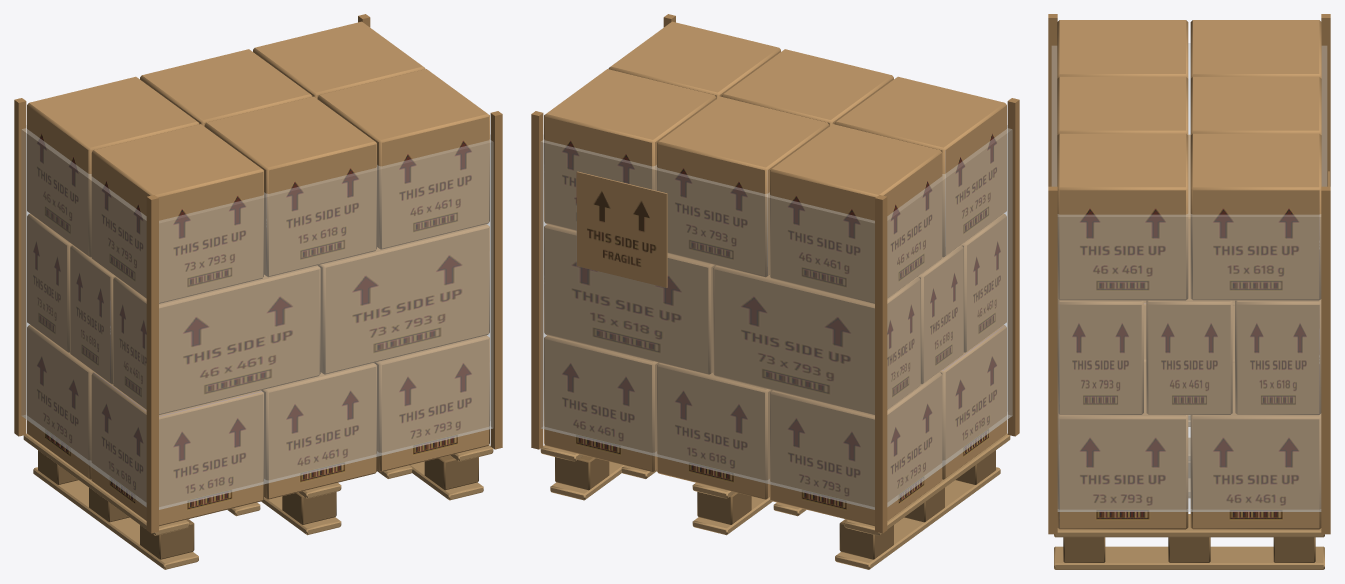
The model's file is pallet_stack_a.glb.
The picture shows the model from 3 angles, left to right: view 1: azimuth 30°, elevation 25°; view 2: azimuth 150°, elevation 25°; view 3: azimuth 270°, elevation 25°; orthographic projection. The views are drawn at different scales.
Visible parts, largest first — view 1: pallet_stack_a; view 2: pallet_stack_a; view 3: pallet_stack_a.
Boxes of the visible parts, bbox=[...] form: pallet_stack_a: bbox=[14, 14, 502, 569]; pallet_stack_a: bbox=[531, 14, 1019, 569]; pallet_stack_a: bbox=[1048, 14, 1330, 569].
Size of the model in its own units: 5.47 by 5.6 by 3.69.
Materials: 6 (2 with a texture image).
